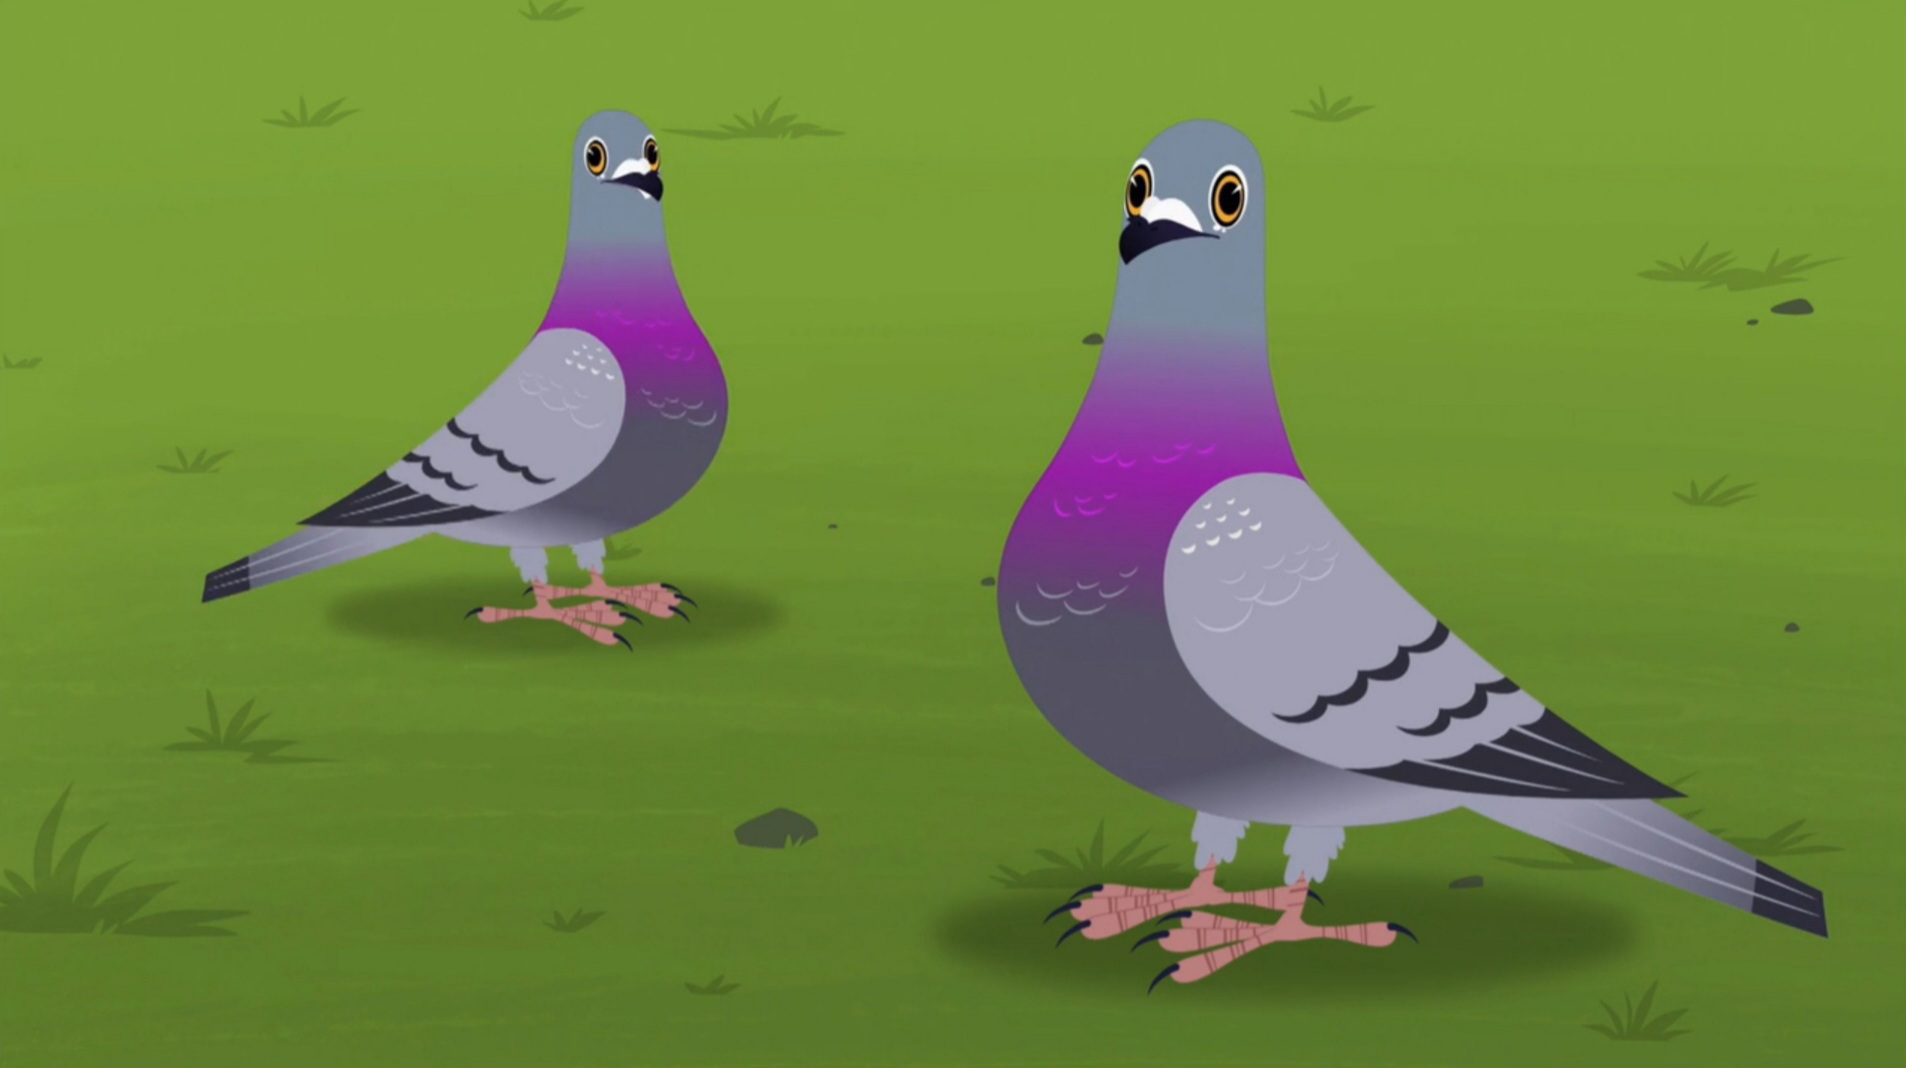Flying Rat: (965, 99, 1842, 955), (202, 89, 730, 671)
